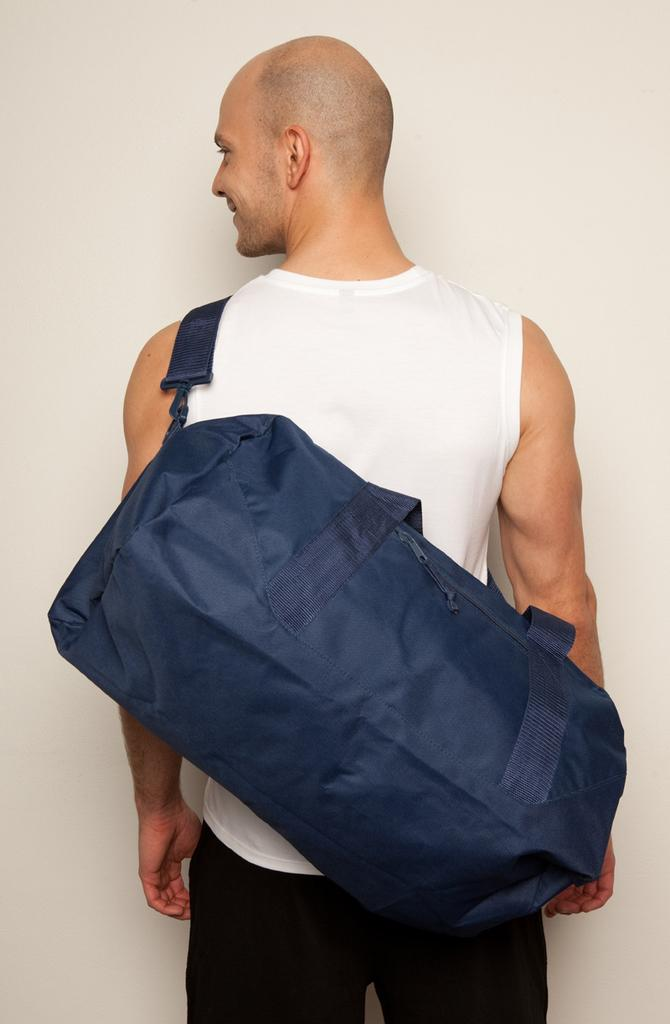Luggage-and-bags: (44, 288, 635, 930)
